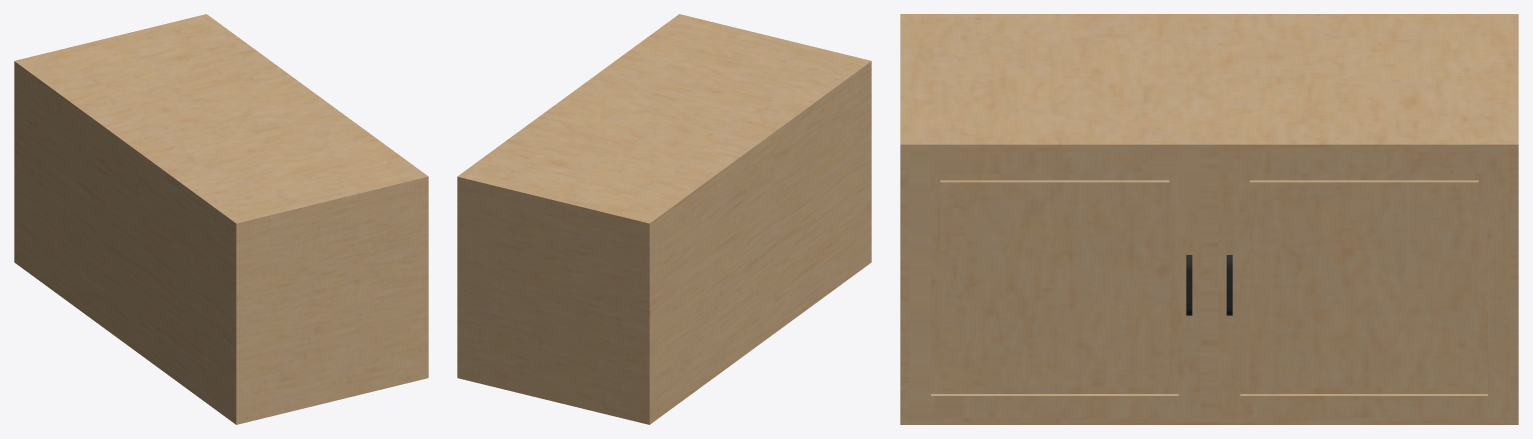
File: wall_cabinet.obj
3 views of the same model, side by side, from view 1: azimuth 30°, elevation 25°; view 2: azimuth 150°, elevation 25°; view 3: azimuth 270°, elevation 25° (orthographic). The views are drawn at different scales.
Parts seen in each view (by area): view 1: wall_cabinet; view 2: wall_cabinet; view 3: wall_cabinet, hatch_1, hatch_2.
Part boxes in pixels (x1,y1,x2,y2): wall_cabinet: (14, 14, 428, 424); wall_cabinet: (457, 14, 871, 424); wall_cabinet: (900, 14, 1518, 424); hatch_1: (909, 151, 1200, 417); hatch_2: (1218, 151, 1509, 417).
Size of the model in its own units: 0.5172 by 0.5 by 1.
1 material, 1 textured.
